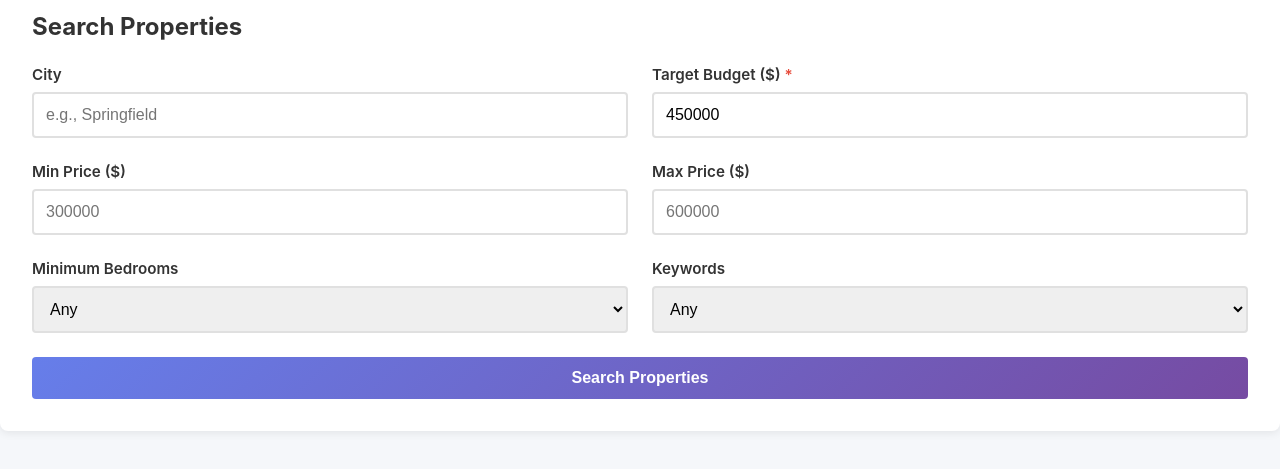
Scenario: SearchForm › validates min price is not greater than max price
Type "600000" into the number field labelled "Min Price ($)" at (330, 212), box [32,189,628,235]
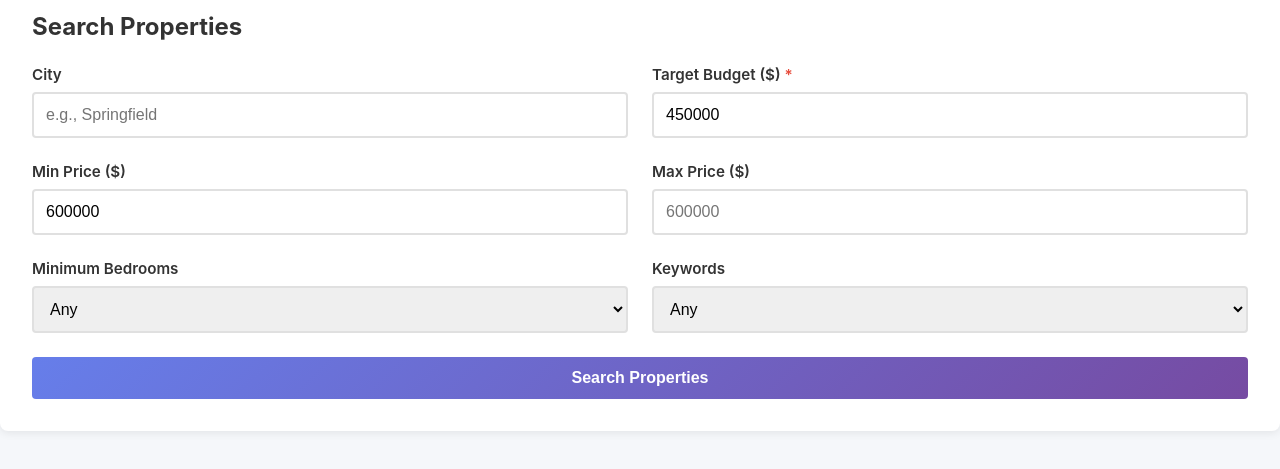
Type "400000" into the number field labelled "Max Price ($)" at (950, 212), box [652,189,1248,235]
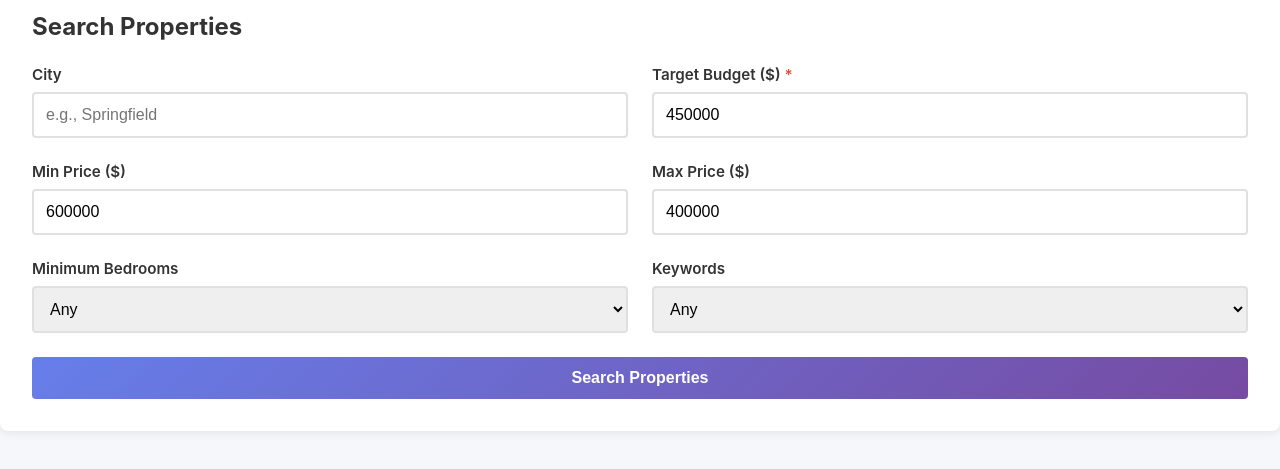
Click the button "Search Properties" at (640, 378), box [32,357,1248,399]
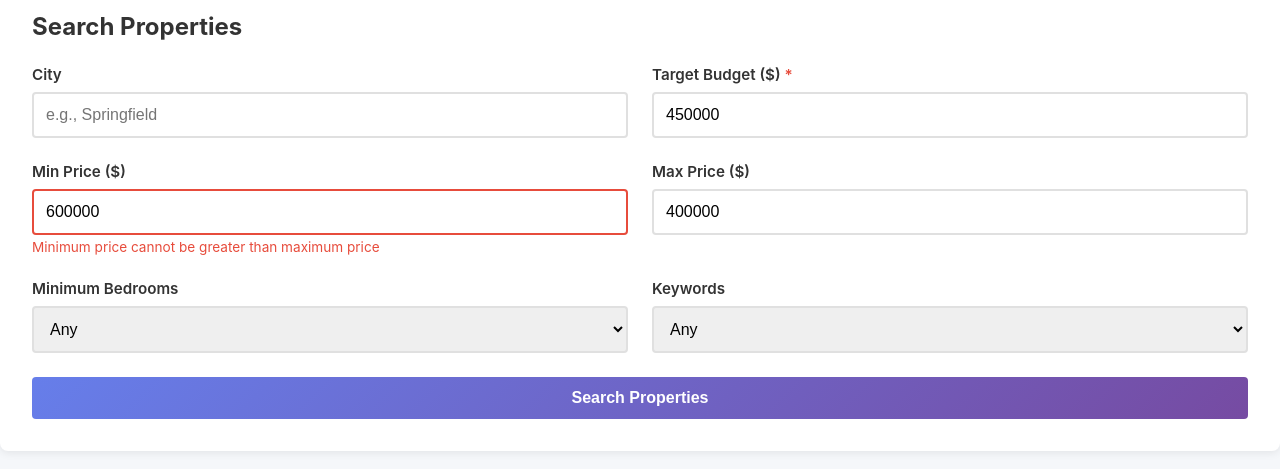
Check: the text "Minimum price cannot be greater than maximum price" is shown, box [32,239,380,255]
